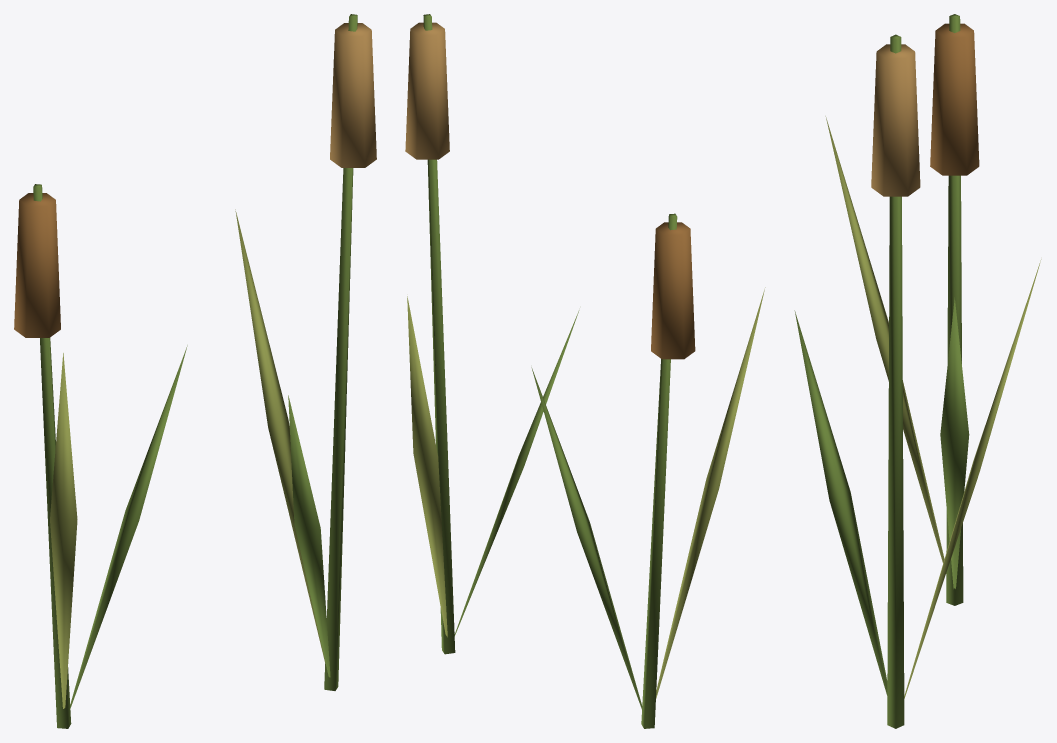
The model's file is wild_cattail_water.glb.
3 views of the same model, side by side, from view 1: azimuth 30°, elevation 25°; view 2: azimuth 150°, elevation 25°; view 3: azimuth 270°, elevation 25° (orthographic). The views are drawn at different scales.
Parts seen in each view (by area): view 1: wild_cattail_water; view 2: wild_cattail_water; view 3: wild_cattail_water.
Part boxes in pixels (box(x1,y1,x2,y2)): wild_cattail_water: box(14, 14, 376, 728); wild_cattail_water: box(405, 14, 765, 728); wild_cattail_water: box(794, 14, 1041, 728).
Bounding box in the file's own units: 0.3856 × 0.7206 × 0.2314.
